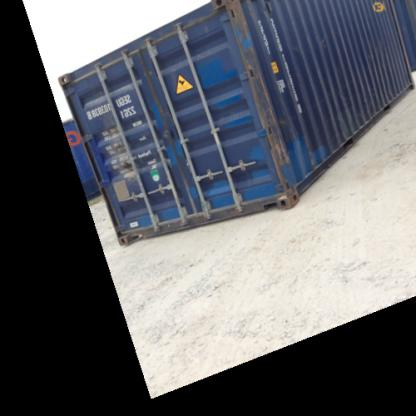Damage: (244, 39, 292, 163), (101, 116, 137, 173), (310, 23, 351, 47), (335, 85, 359, 125), (369, 43, 387, 84)
